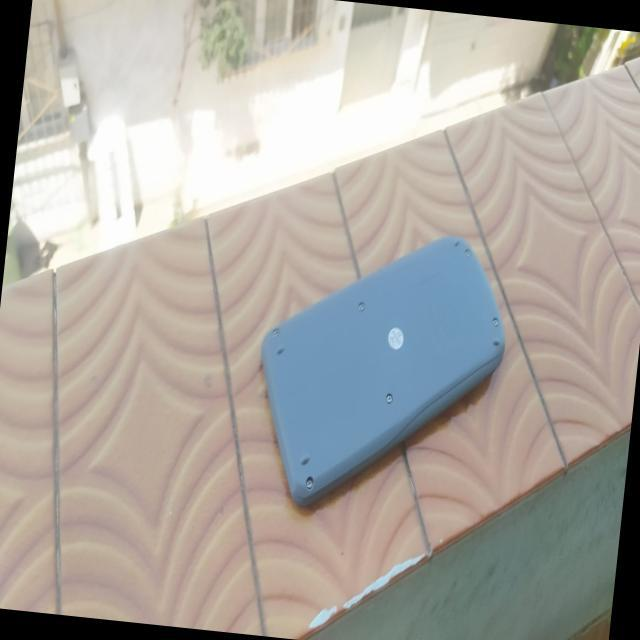Calculator: (242, 217, 512, 533)
